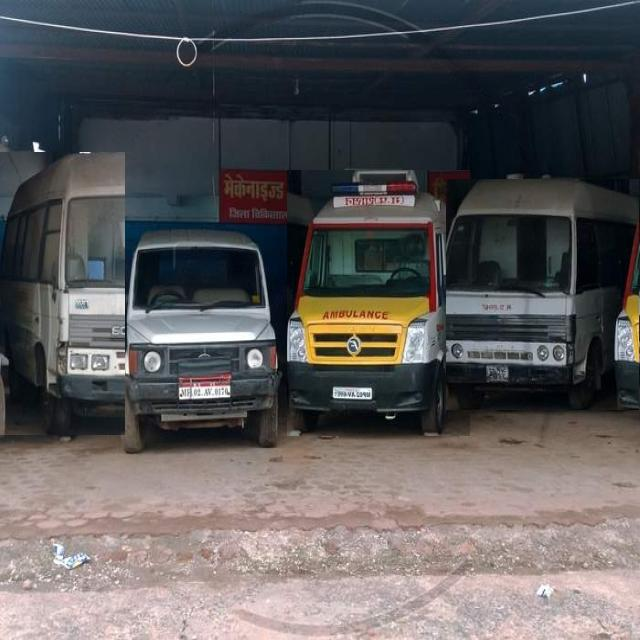bus: (446, 180, 640, 410), (0, 153, 125, 435)
car: (120, 230, 279, 452)
emergency: (288, 170, 470, 436)
